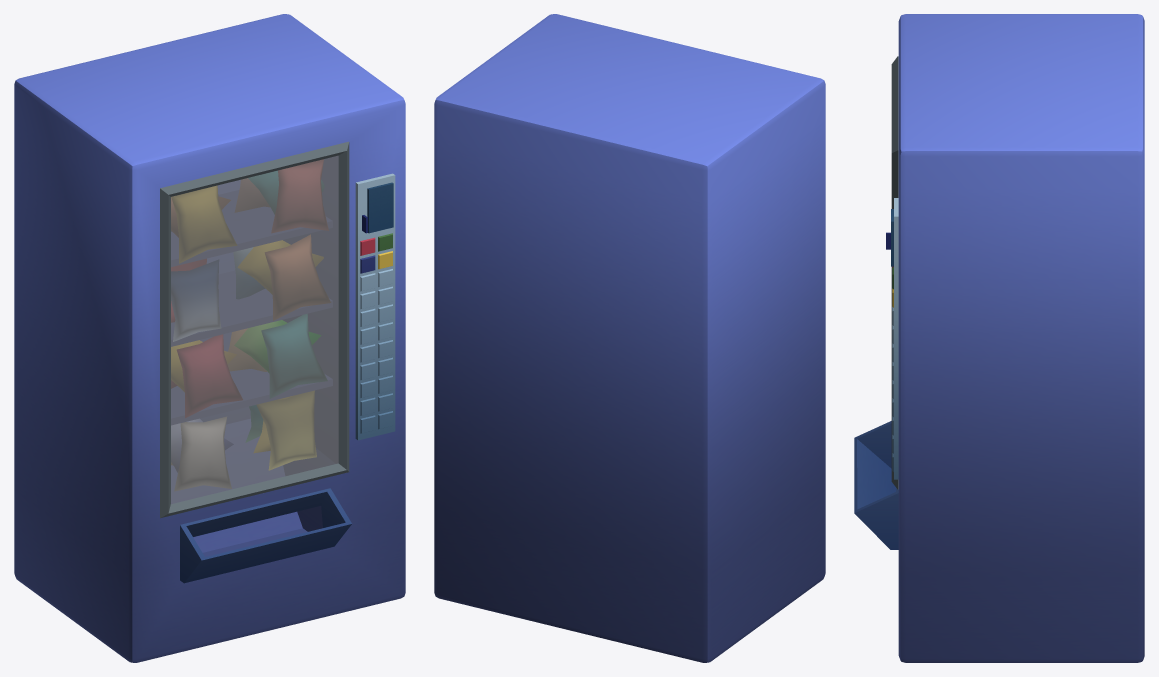
Rendered from Food_Machine.fbx.
The picture shows the model from 3 angles, left to right: view 1: azimuth 30°, elevation 25°; view 2: azimuth 150°, elevation 25°; view 3: azimuth 270°, elevation 25°; orthographic projection. The views are drawn at different scales.
Parts seen in each view (by area): view 1: Box034; view 2: Box034; view 3: Box034.
Part boxes in pixels (left/top/right/bottom): Box034: left=14, top=14, right=405, bottom=662; Box034: left=434, top=14, right=825, bottom=662; Box034: left=854, top=14, right=1144, bottom=662.
Size of the model in its own units: 121 by 210 by 107.
